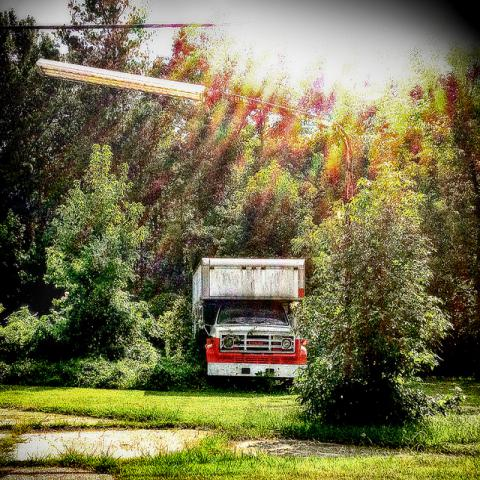truck: (190, 257, 308, 392)
